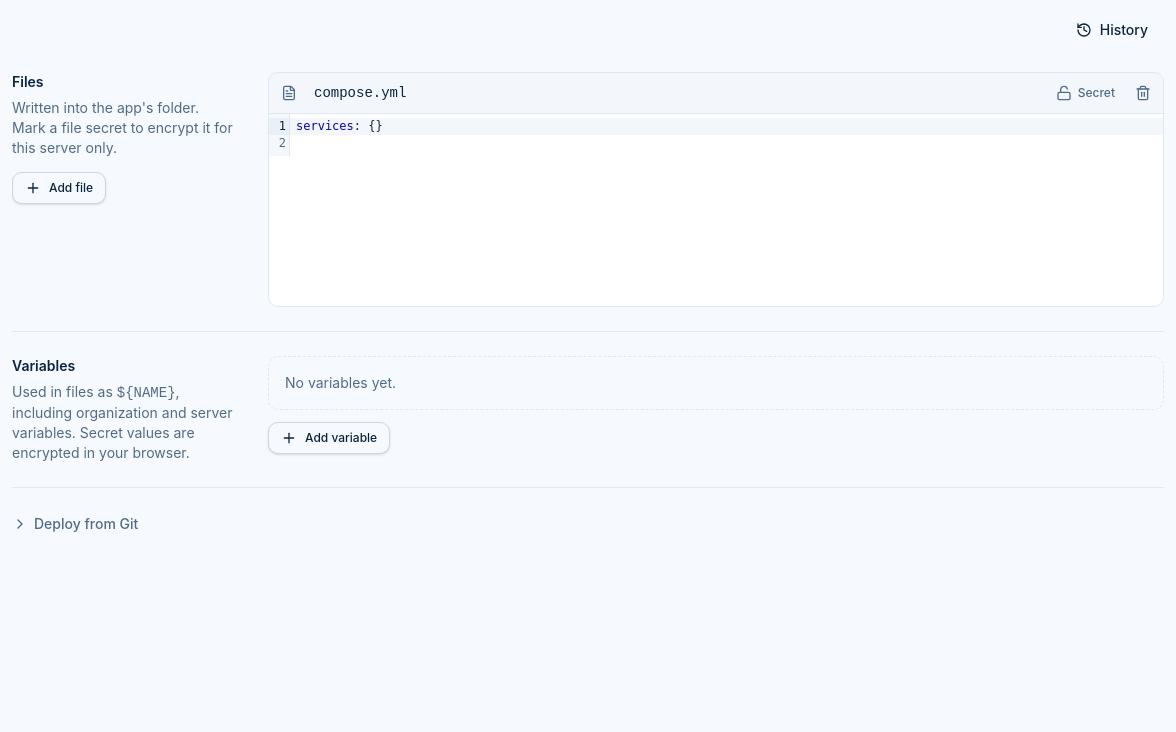
Test case: AppEditorPanel › is only History until something is edited, then a sticky bar of Discard, Save draft and Save & redeploy
expect the button "Save & redeploy" is not shown: met
expect the button "Discard" is not shown: met
Click the button "History".
click(1112, 30)  # box [1060,12,1164,48]
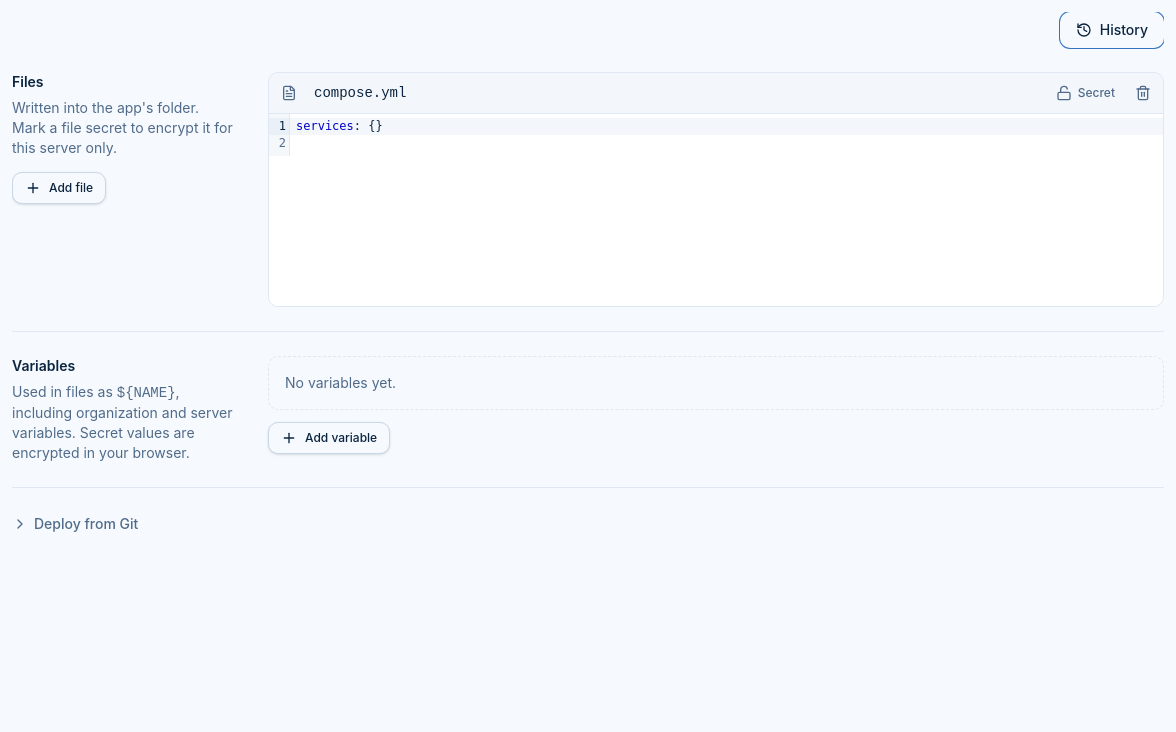
Click the button "Add variable".
click(329, 438)  # box [268,422,390,454]
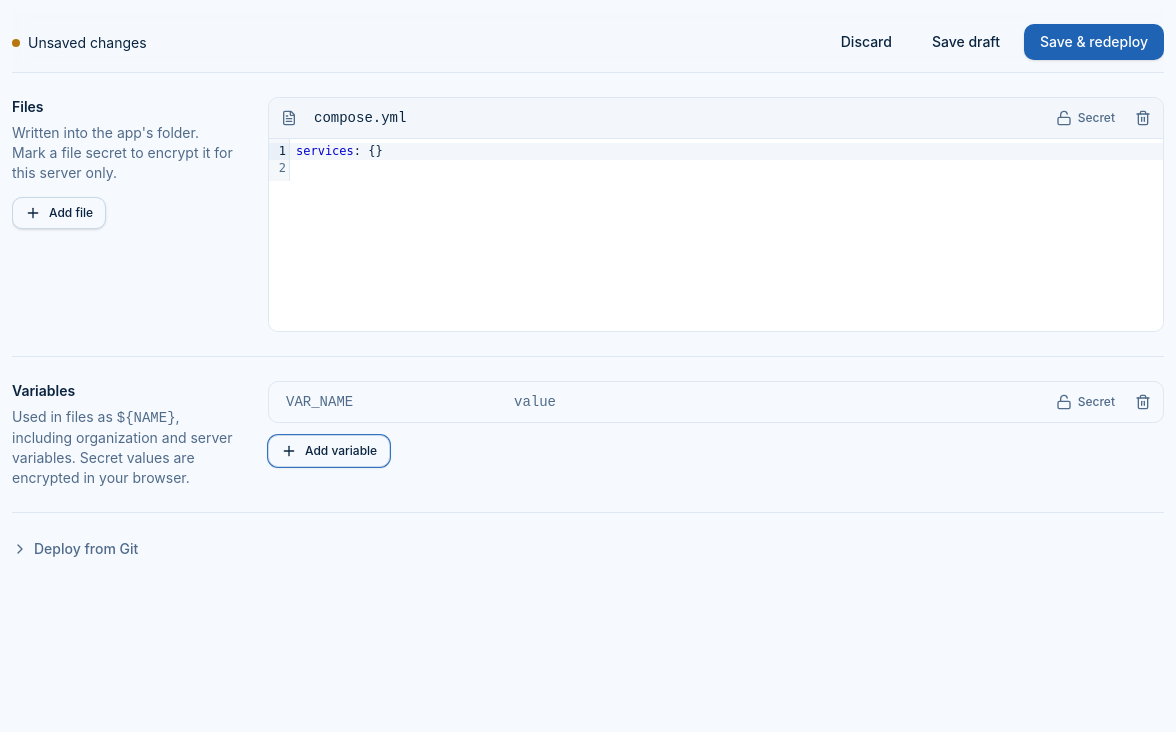
Type "PORT" into the field named "Variable name".
click(385, 402); type("PORT")  # box [273,386,497,418]
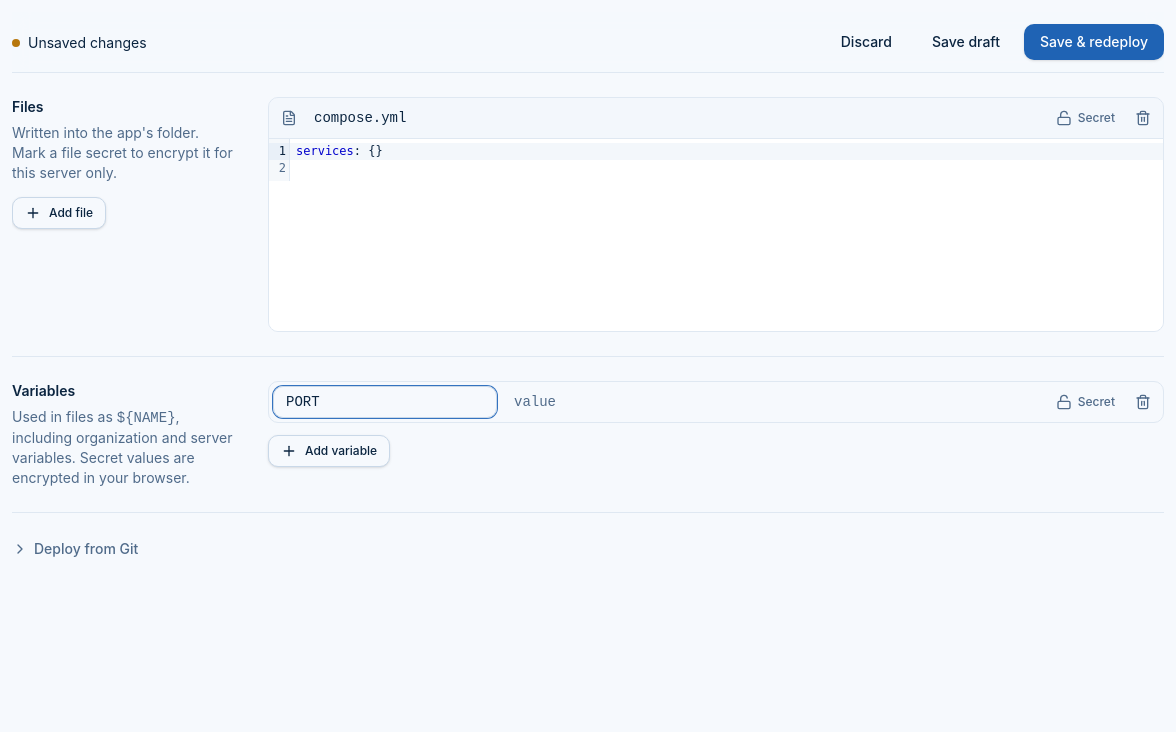
expect the buttons read "Discard", "Save draft", "Save & redeploy", in this order: met
Click the button "Discard".
click(866, 42)  # box [825,24,908,60]
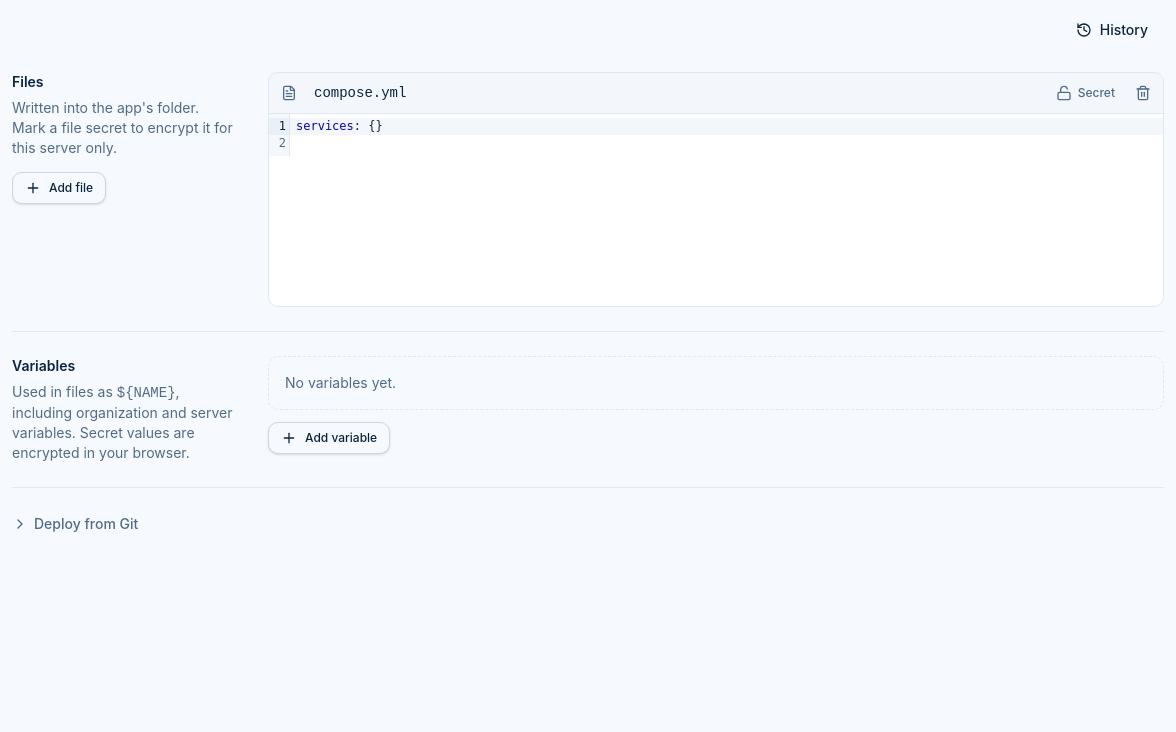
expect the button "History" is shown: met, box [1060,12,1164,48]
expect the button "Save & redeploy" is gone: met
